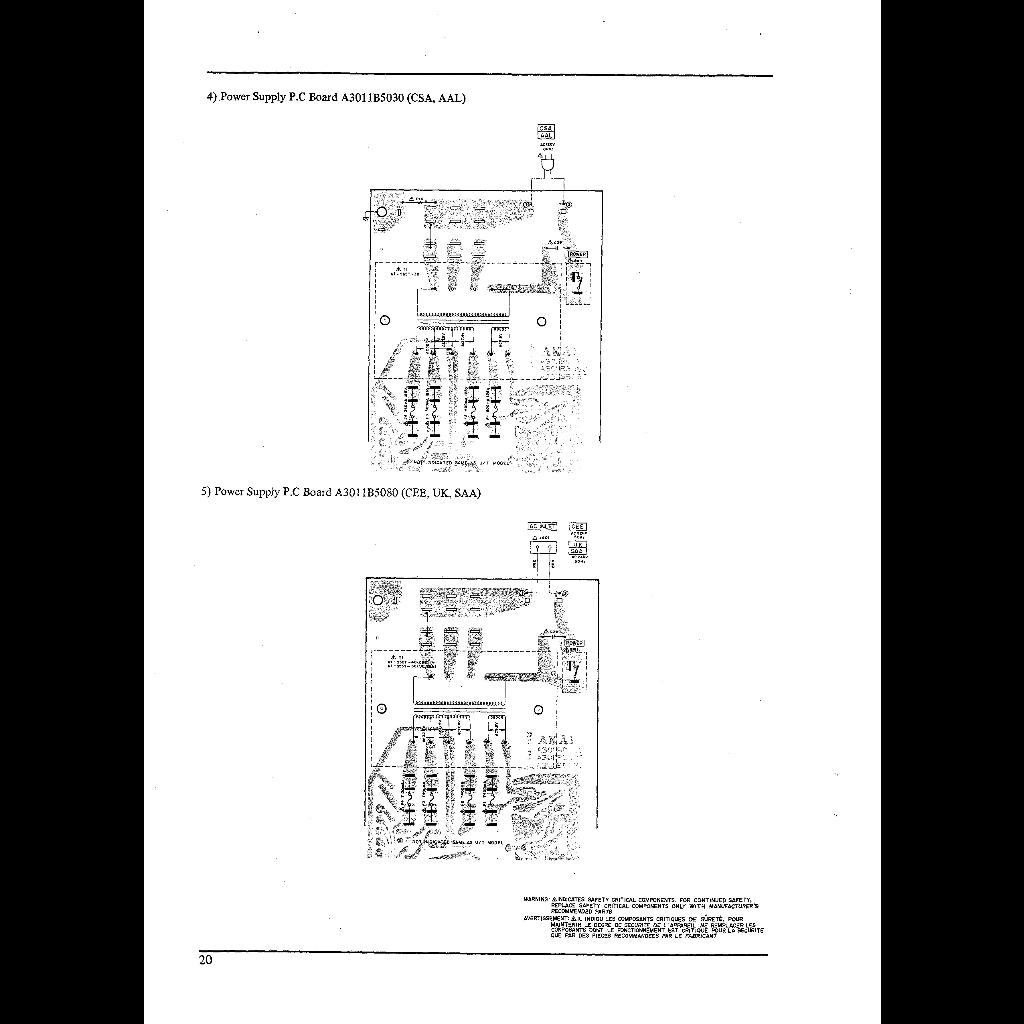Board: (355, 114, 637, 482), (359, 511, 621, 869)
